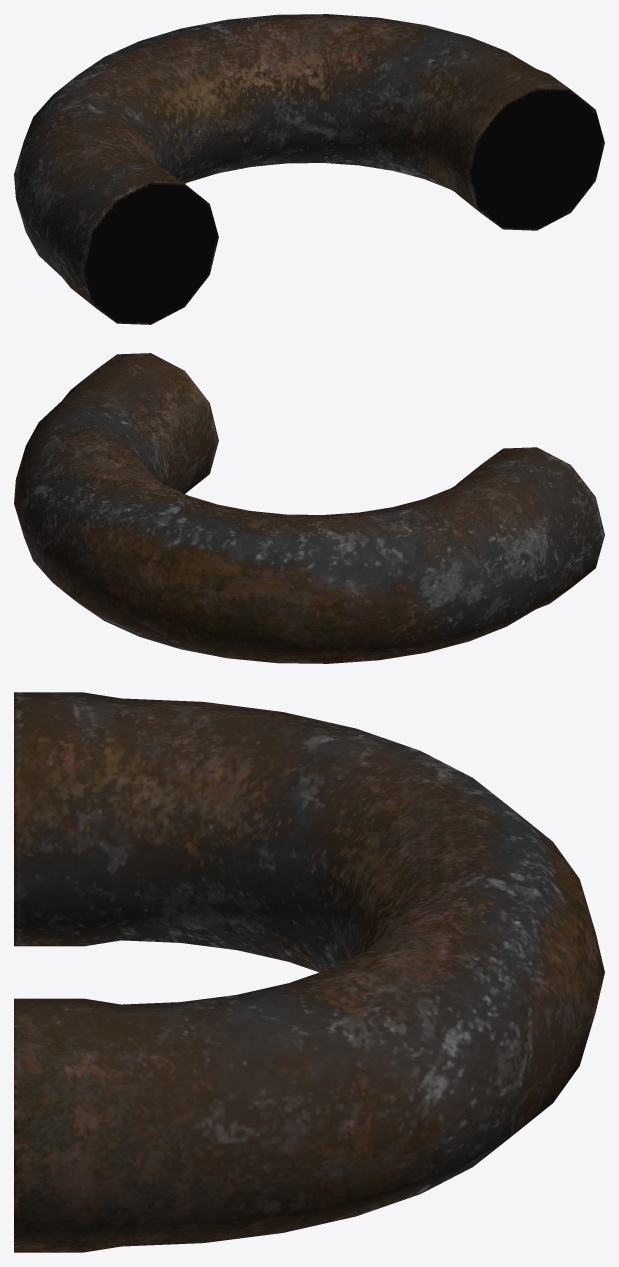
The model's file is NM_BigTube_05.fbx.
The picture shows the model from 3 angles, top to bottom: view 1: azimuth 30°, elevation 25°; view 2: azimuth 150°, elevation 25°; view 3: azimuth 270°, elevation 25°; orthographic projection. The views are drawn at different scales.
Visible parts, largest first — view 1: BigTube_03_low003; view 2: BigTube_03_low003; view 3: BigTube_03_low003.
Part boxes in pixels (x1,y1,x2,y2): BigTube_03_low003: [14, 14, 604, 324]; BigTube_03_low003: [14, 353, 604, 663]; BigTube_03_low003: [14, 692, 604, 1252].
Size of the model in its own units: 117 by 30.54 by 70.78.
